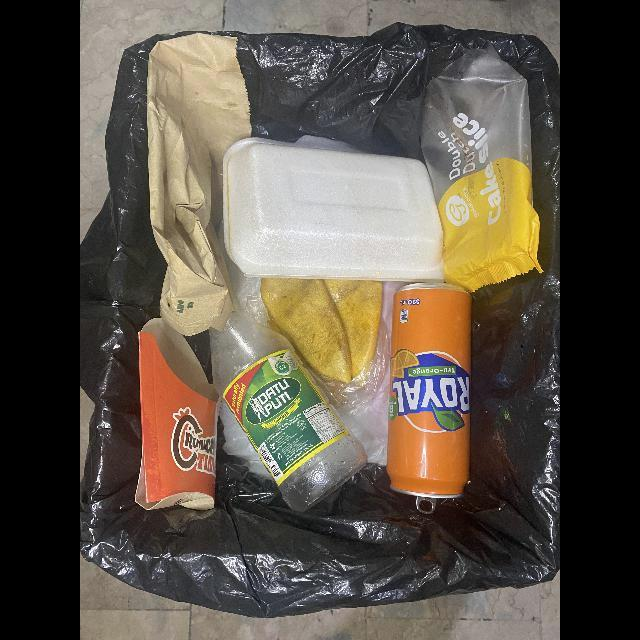aluminum: (388, 285, 472, 498)
cardboard: (135, 318, 221, 512)
food_wrapper: (420, 47, 543, 293)
paper: (147, 33, 252, 338)
plastic_bottle: (210, 313, 368, 513)
